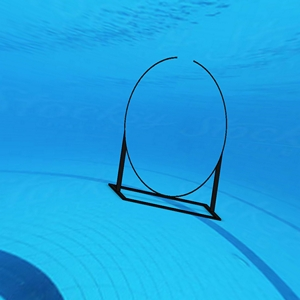circle: (107, 48, 232, 228)
